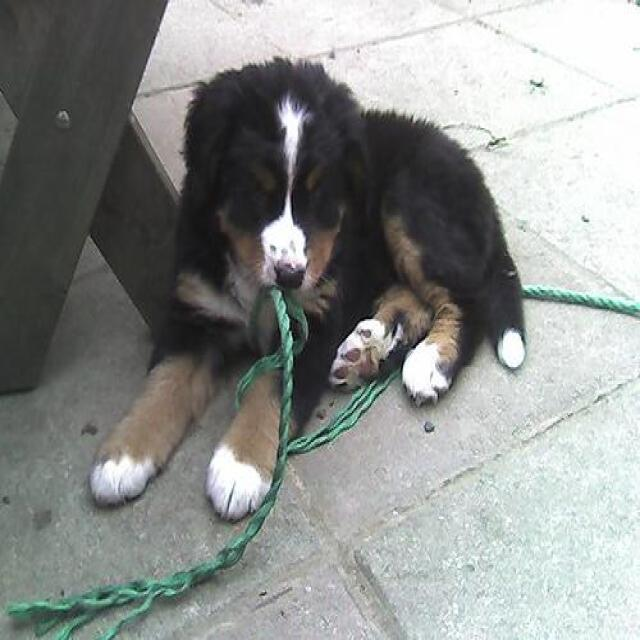relax: (152, 55, 530, 548)
